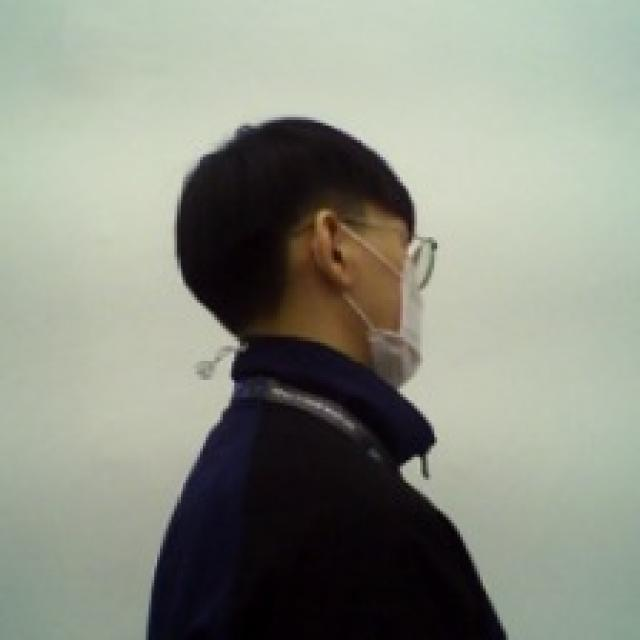mask: (296, 203, 439, 392)
no_gloves: (173, 112, 430, 324)
